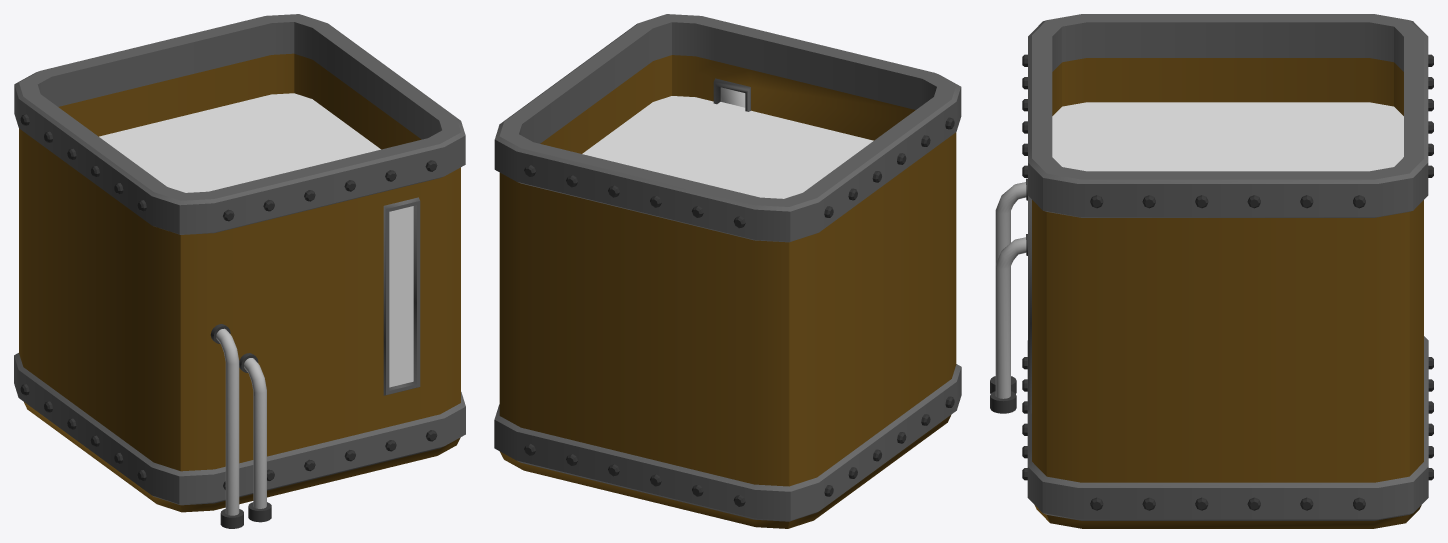
Rendered from vat.fbx.
The picture shows the model from 3 angles, left to right: view 1: azimuth 30°, elevation 25°; view 2: azimuth 150°, elevation 25°; view 3: azimuth 270°, elevation 25°; orthographic projection. The views are drawn at different scales.
Visible parts, largest first — view 1: Vat, Vat Acid; view 2: Vat, Vat Acid; view 3: Vat, Vat Acid.
Boxes of the visible parts, left/top/right/bottom form: Vat: left=14, top=14, right=465, bottom=528; Vat Acid: left=99, top=93, right=380, bottom=192; Vat: left=494, top=14, right=961, bottom=528; Vat Acid: left=582, top=96, right=873, bottom=198; Vat: left=990, top=14, right=1433, bottom=528; Vat Acid: left=1052, top=102, right=1403, bottom=171.
Bounding box in the file's own units: 236 × 255 × 225.
